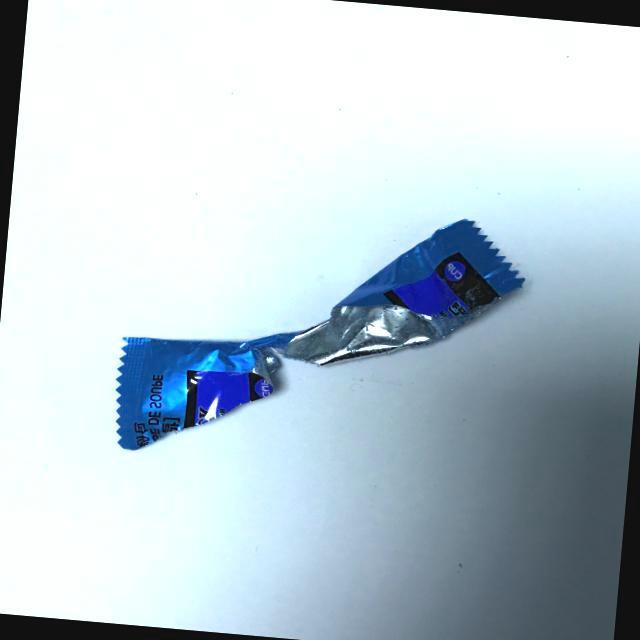plastic: (77, 160, 548, 532)
